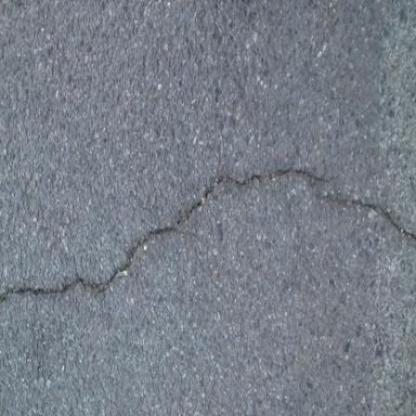Cracks: (0, 140, 416, 312)
